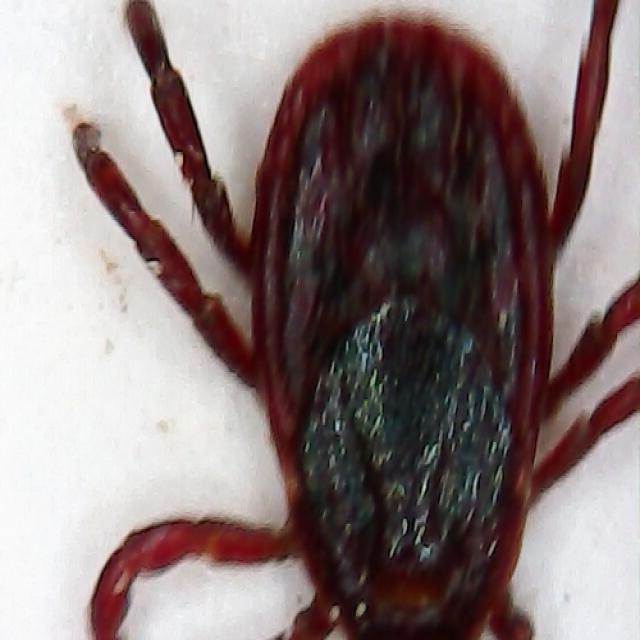Rhipicephalus Sanguineus-F: (72, 0, 640, 640)
